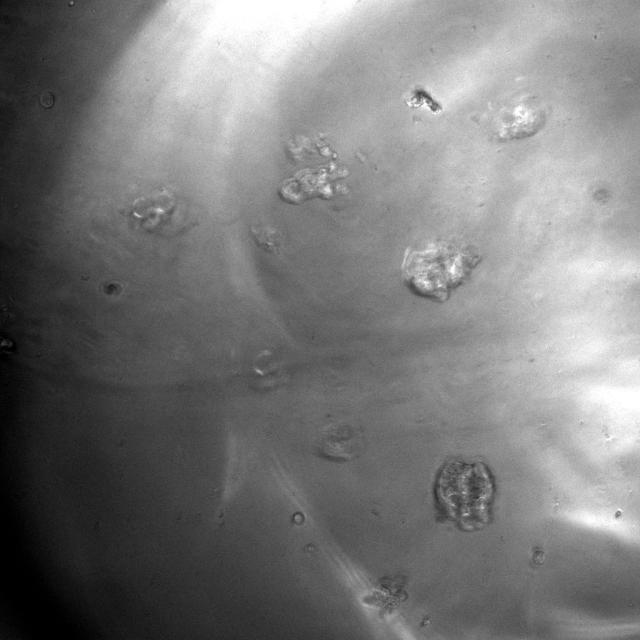organoid: (402, 241, 480, 302), (279, 136, 348, 204), (433, 460, 495, 532), (124, 188, 195, 237), (494, 101, 546, 140), (363, 576, 408, 615), (406, 87, 442, 113), (104, 281, 122, 295), (292, 511, 305, 525)
